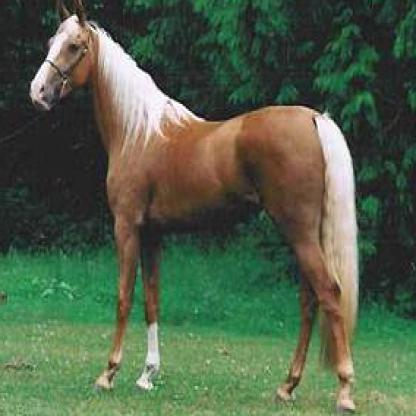horse: (24, 0, 358, 415)
